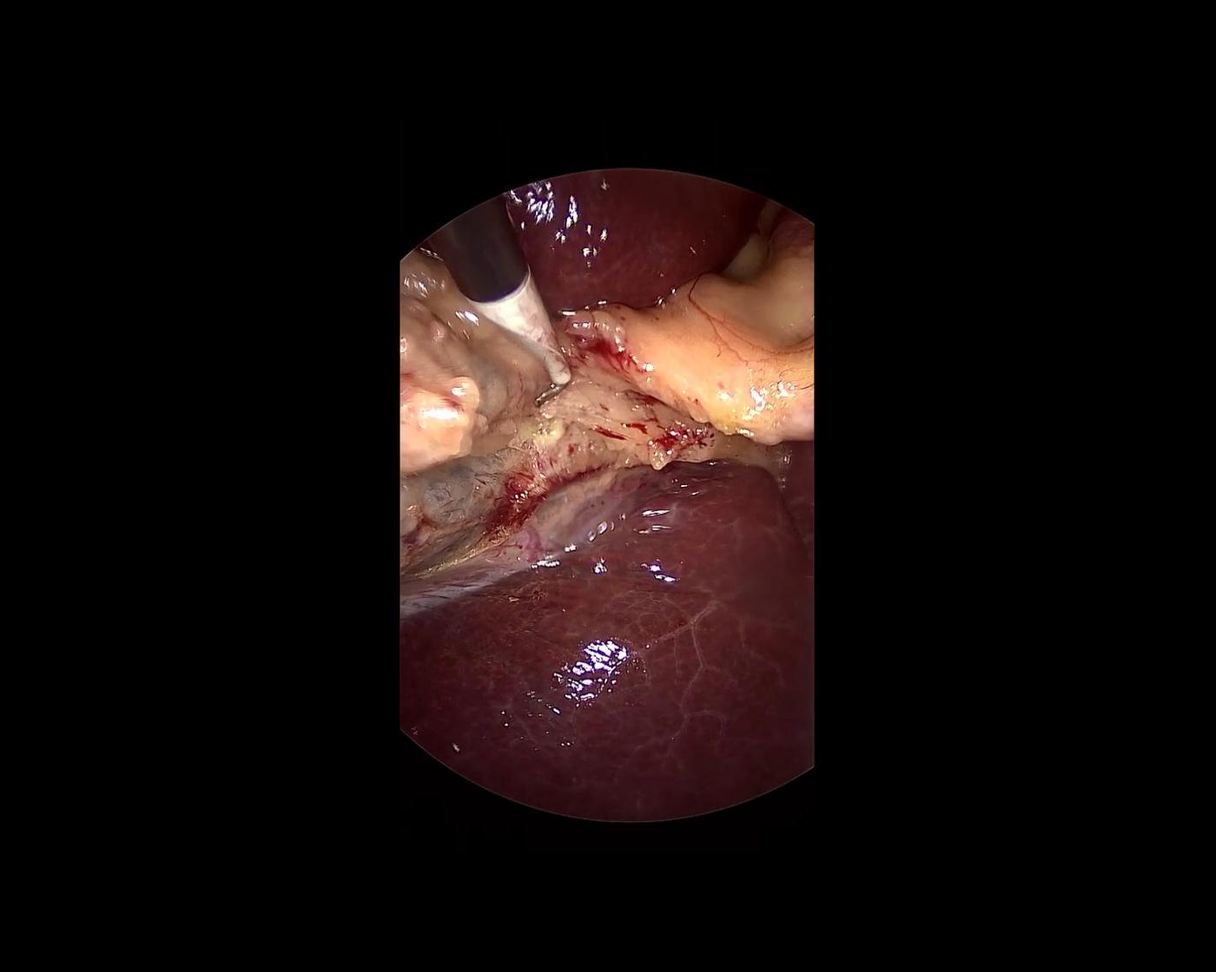Cautery: (416, 191, 601, 418)
Gallbladder: (397, 247, 550, 571)
Liver: (396, 438, 816, 824), (505, 159, 773, 314)
